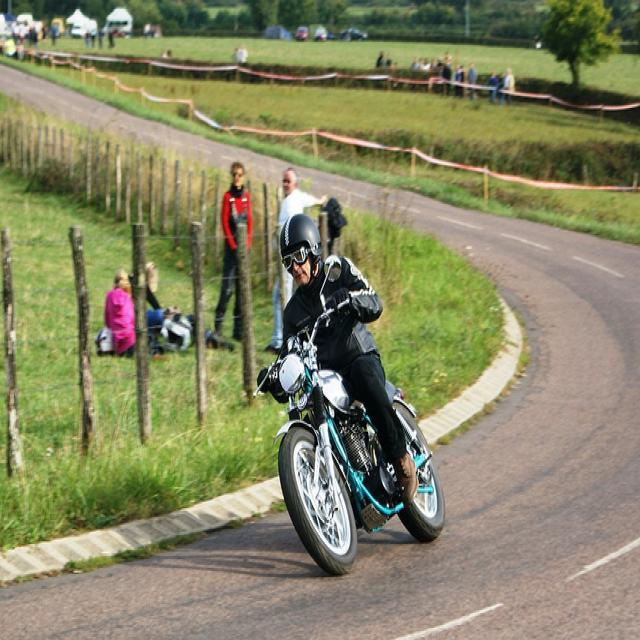motor: (264, 305, 444, 580)
